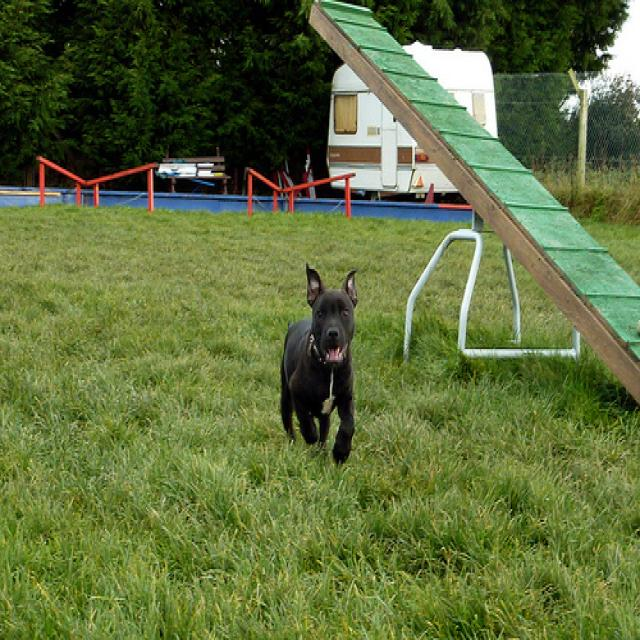dog-staffordshire_bull_terrier: (275, 258, 361, 471)
